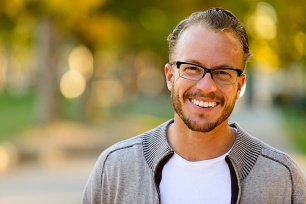male: (163, 20, 243, 137)
